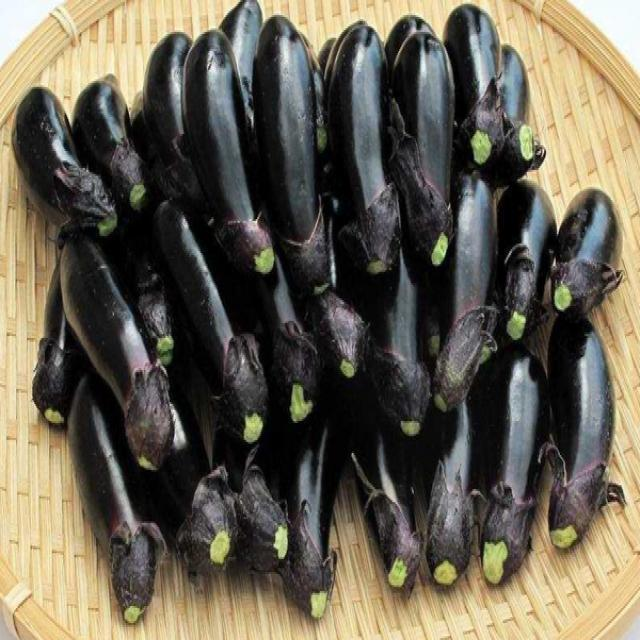eggplant: (47, 223, 540, 589), (170, 22, 278, 300), (0, 62, 137, 268), (324, 16, 409, 303), (548, 174, 624, 332)
